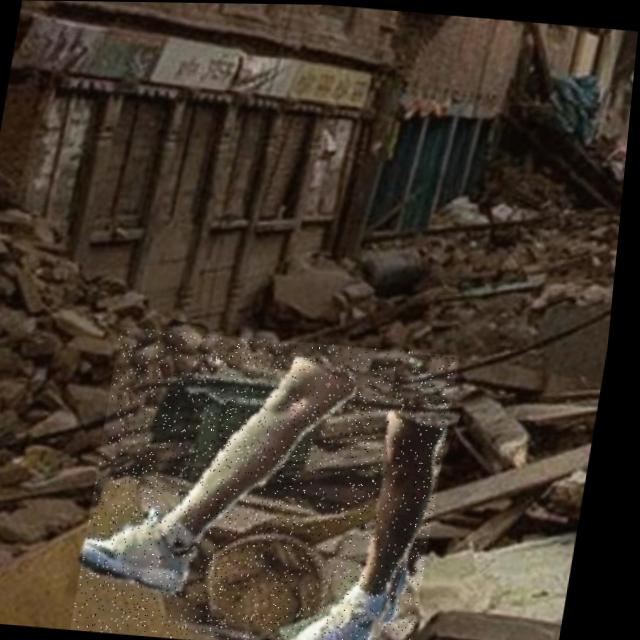Person in Rubble: (82, 326, 467, 640)
